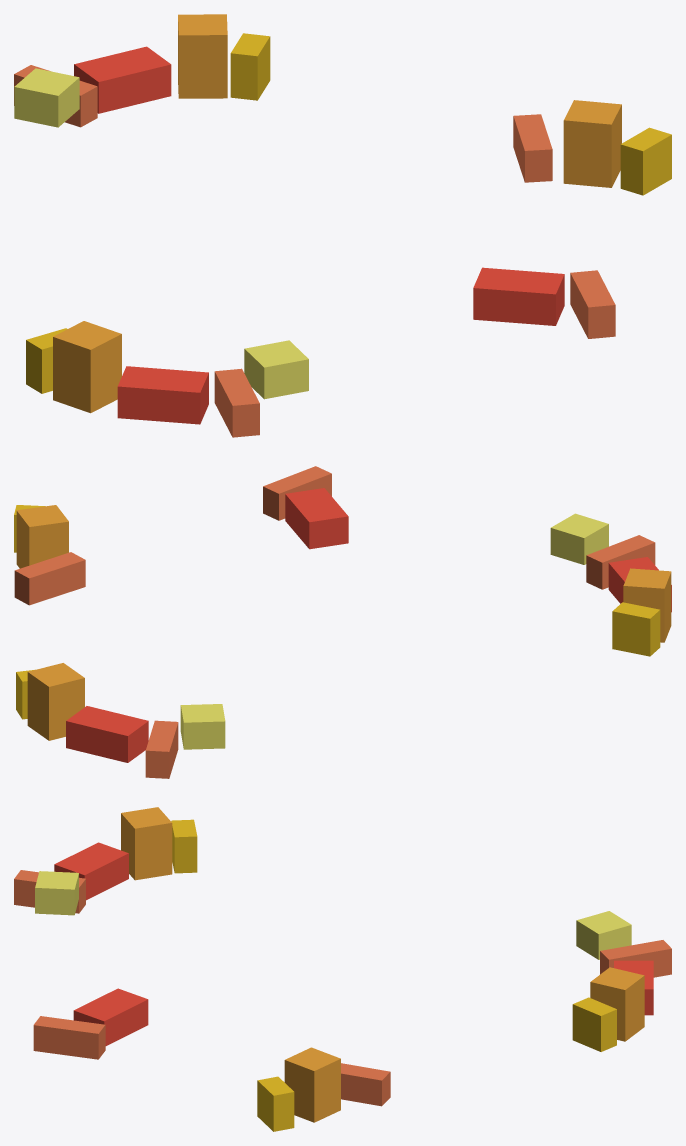
The model's file is Lvl04_Prototype.fbx.
3 renders of one model, top to bottom at view 1: azimuth 30°, elevation 25°; view 2: azimuth 150°, elevation 25°; view 3: azimuth 270°, elevation 25°, orthographic. The views are drawn at different scales.
Parts seen in each view (by area): view 1: HouseSET_lvl04; view 2: HouseSET_lvl04; view 3: HouseSET_lvl04.
Part boxes in pixels (x1=…): HouseSET_lvl04: x1=14, y1=14, x2=671, y2=437; HouseSET_lvl04: x1=14, y1=466, x2=671, y2=778; HouseSET_lvl04: x1=14, y1=807, x2=671, y2=1131.
Size of the model in its own units: 11467 by 1000 by 11550.
